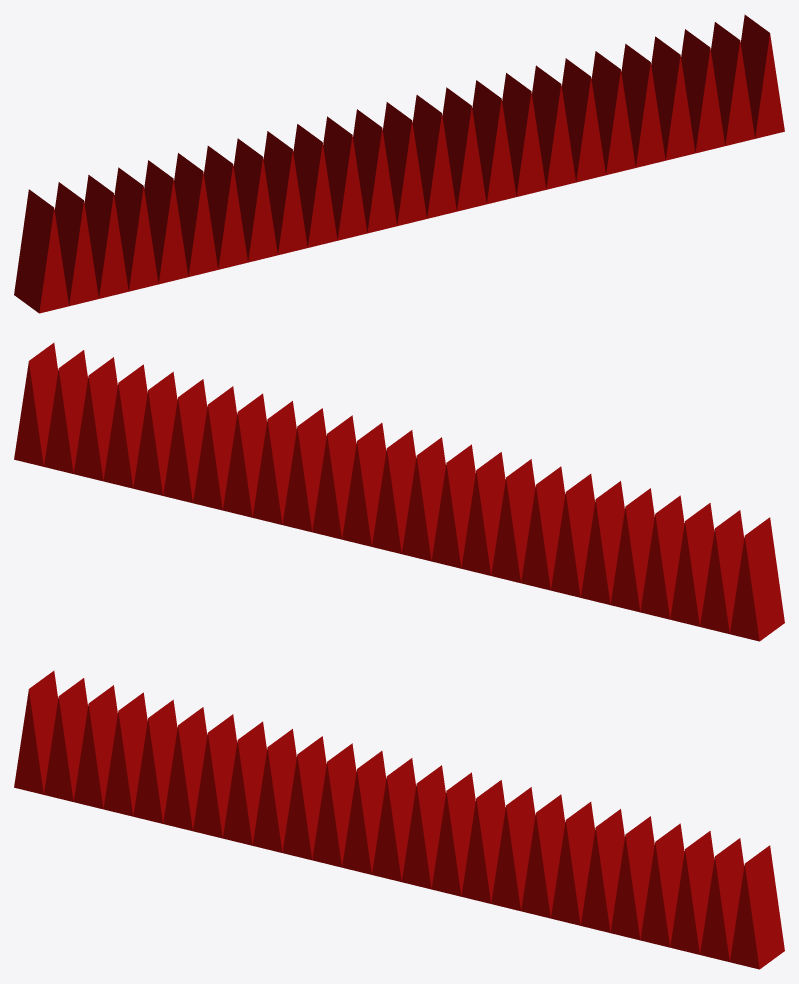
The model's file is bossSpike.obj.
3 renders of one model, top to bottom at view 1: azimuth 30°, elevation 25°; view 2: azimuth 150°, elevation 25°; view 3: azimuth 330°, elevation 25°, orthographic.
Parts seen in each view (by area): view 1: 立方体; view 2: 立方体; view 3: 立方体.
Part boxes in pixels (left/top/right/bottom): 立方体: left=14, top=14, right=784, bottom=313; 立方体: left=14, top=342, right=784, bottom=641; 立方体: left=14, top=670, right=784, bottom=969.
Size of the model in its own units: 34 by 4.46 by 2.
Materials: 1 (1 with a texture image).
